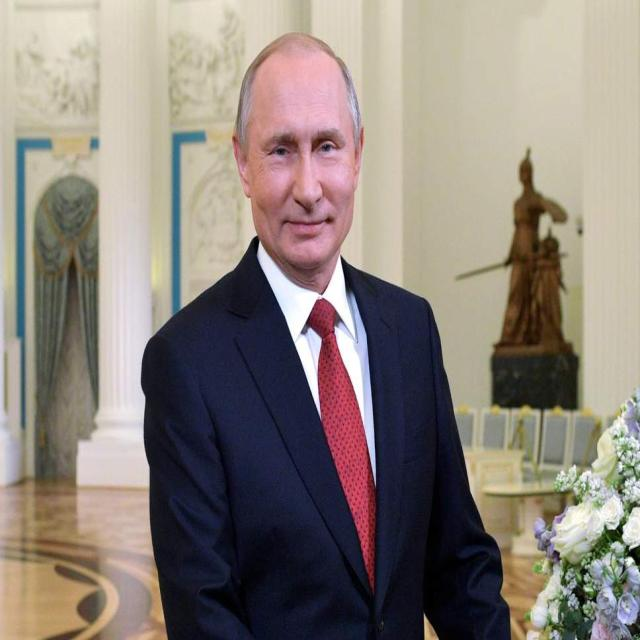human: (129, 27, 518, 640)
